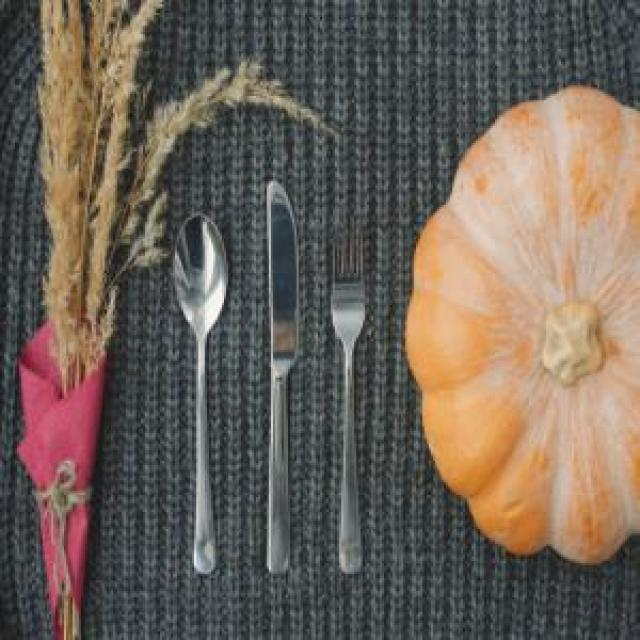knife: (264, 177, 301, 574)
